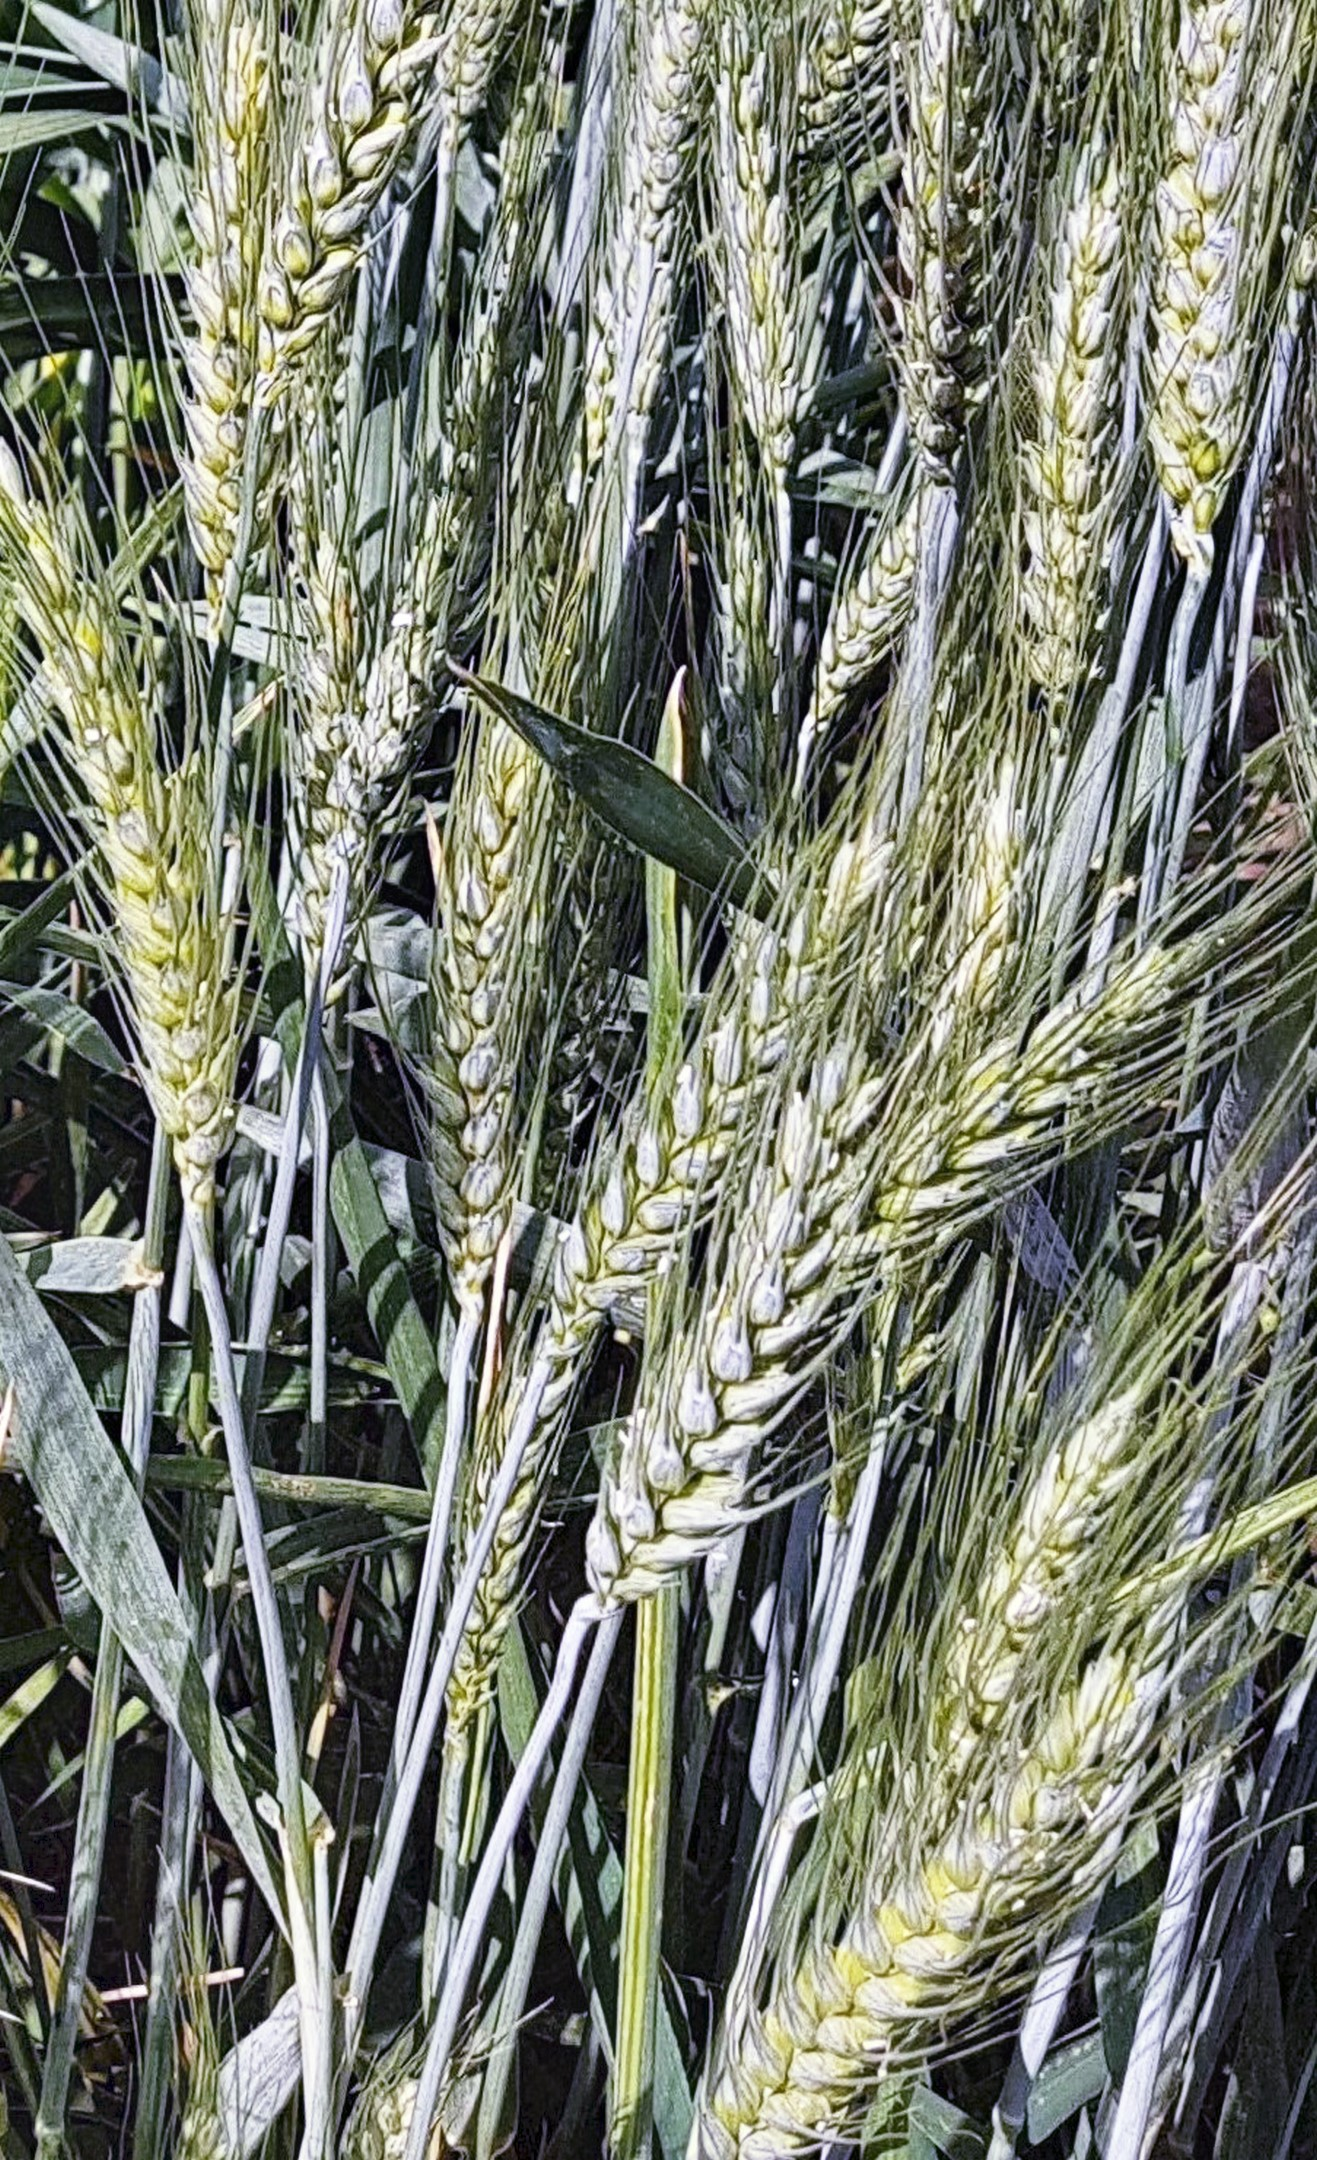Healthy Wheat: (517, 856, 935, 1640), (722, 1680, 1257, 2148), (996, 2, 1288, 683), (8, 498, 251, 1145)
